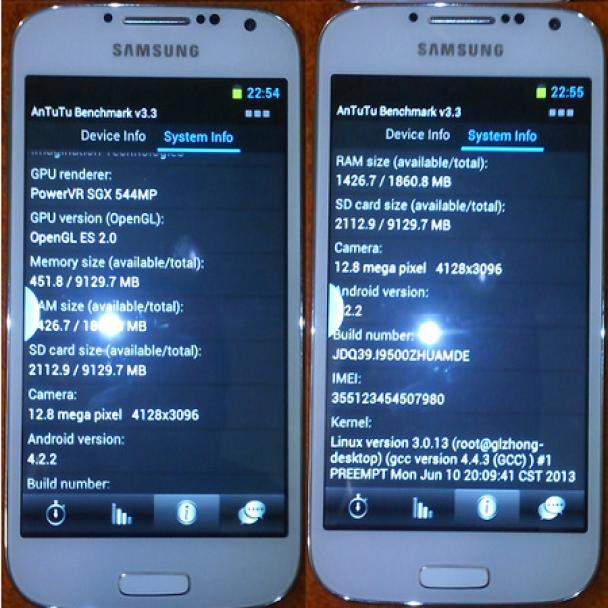Handphone: (9, 3, 304, 599), (314, 7, 602, 602)
